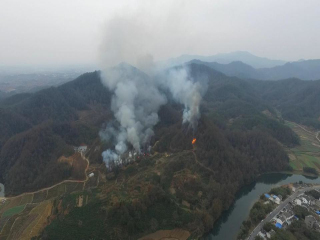smoke: (95, 21, 167, 174), (170, 69, 207, 132)
